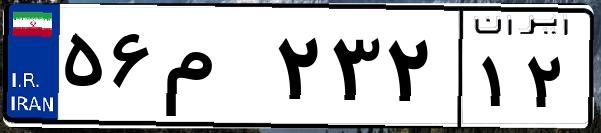1: (475, 38, 525, 113)
2: (270, 28, 330, 110), (385, 28, 445, 110), (525, 38, 570, 115)
3: (330, 28, 385, 110)
5: (57, 26, 110, 100)
6: (110, 28, 158, 98)
م: (158, 20, 270, 120)
